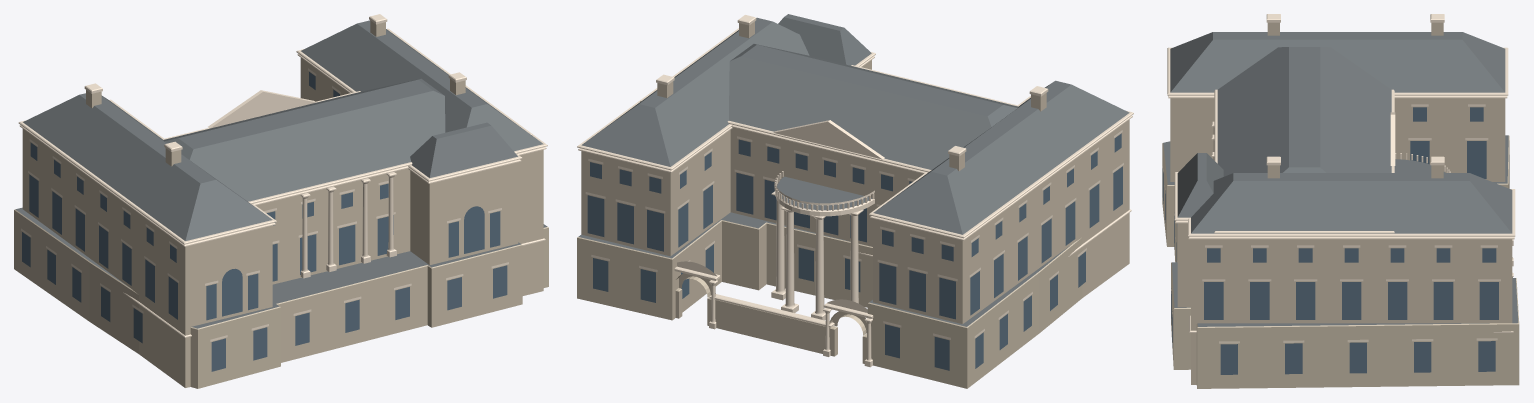
The model's file is dc-anderson-house.glb.
3 views of the same model, side by side, from view 1: azimuth 30°, elevation 25°; view 2: azimuth 150°, elevation 25°; view 3: azimuth 270°, elevation 25° (orthographic). The views are drawn at different scales.
Visible parts, largest first — view 1: Anderson House; view 2: Anderson House; view 3: Anderson House.
Part boxes in pixels (left/top/right/bottom): Anderson House: left=14, top=14, right=548, bottom=388; Anderson House: left=577, top=14, right=1133, bottom=388; Anderson House: left=1162, top=14, right=1519, bottom=388.
Size of the model in its own units: 44.48 by 21.85 by 34.88.
